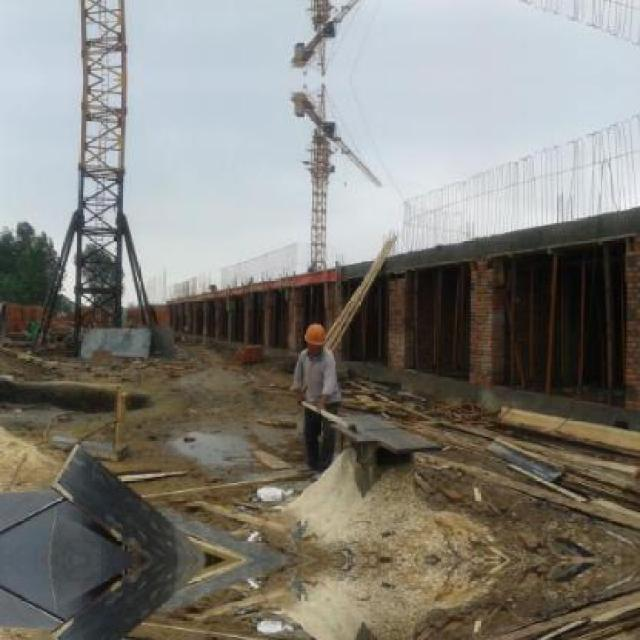helmet: (300, 322, 325, 358)
